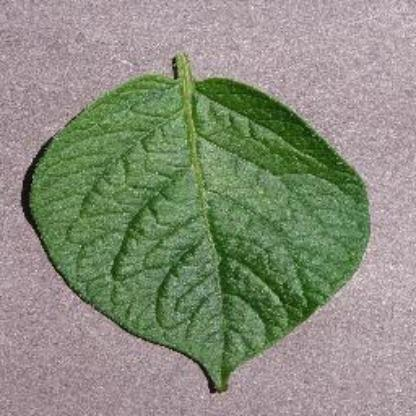Healthy-plant: (23, 49, 372, 394)
